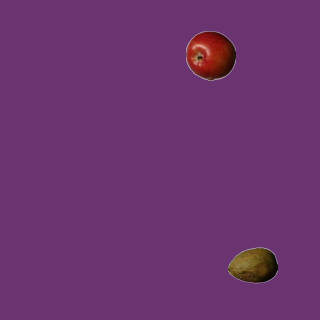Apple Braeburn: (185, 30, 235, 80)
Papaya: (227, 240, 277, 290)
